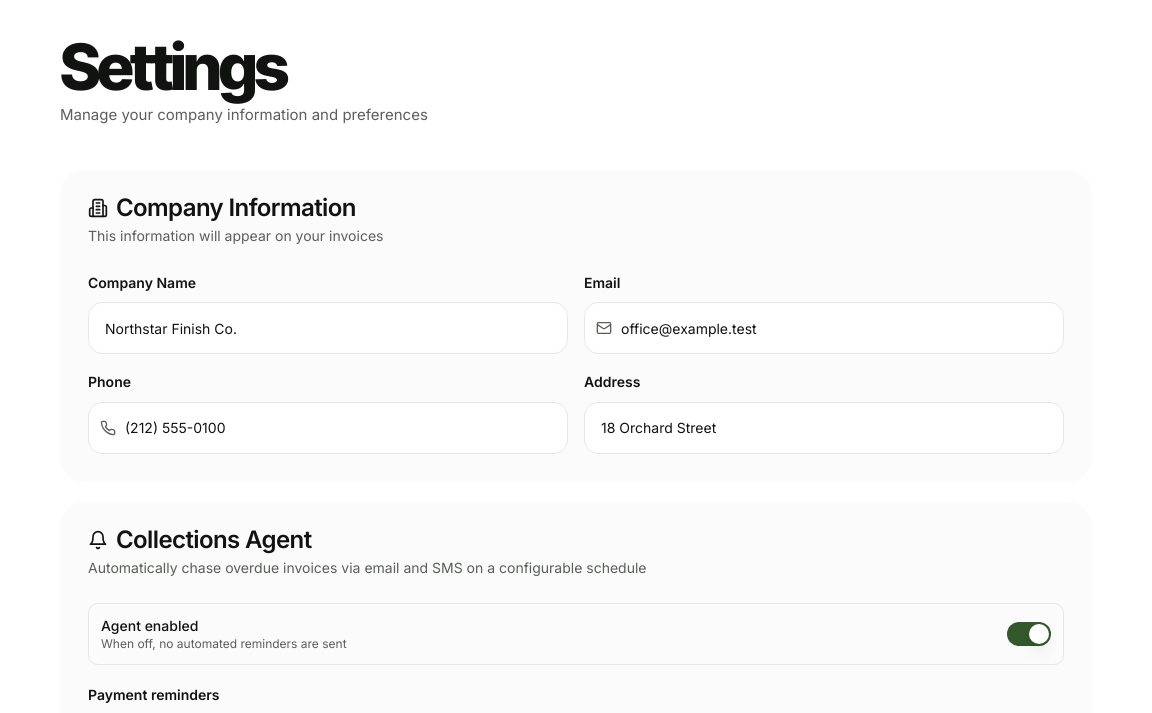
Test: Settings page › shows a save bar as soon as a field changes, and Discard restores the saved values
Replace the text in the field with test id "input-company-name" with "Northstar Painting". click: coordinates (328, 328)
box: [88, 302, 568, 354]
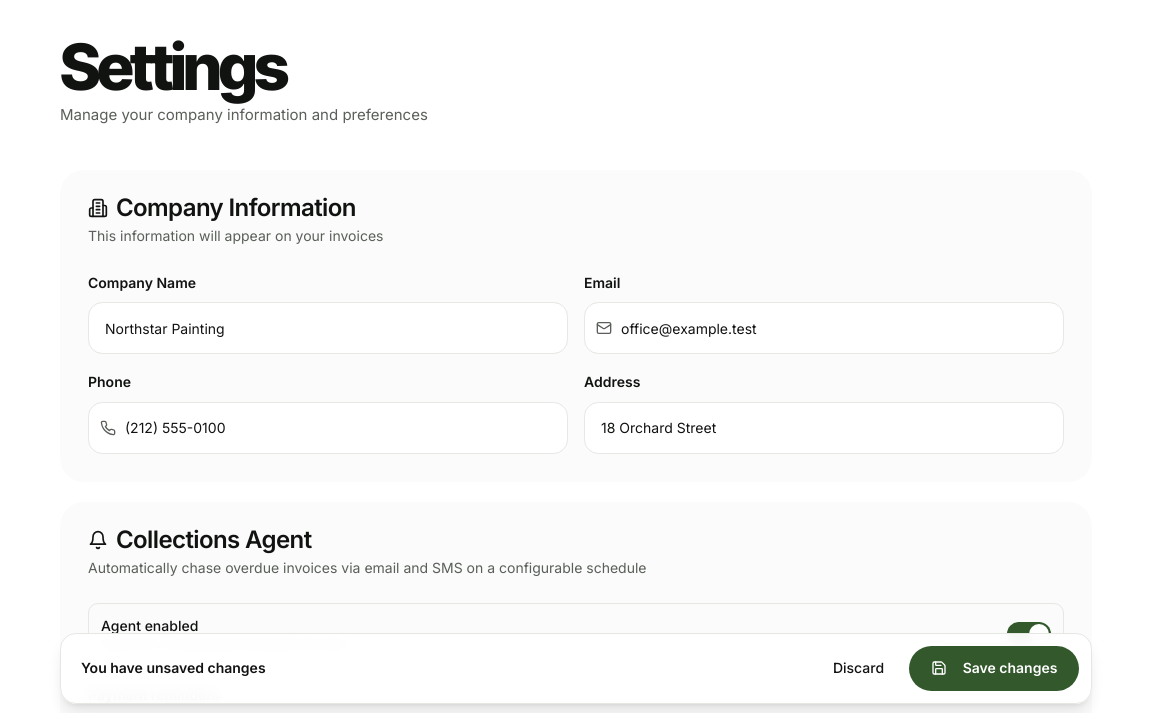
Result: the element with test id "bar-unsaved-changes" shows "You have unsaved changes" at [81, 660, 266, 677]
Click the button with test id "button-discard-settings". click: coordinates (858, 669)
box: [816, 646, 901, 691]
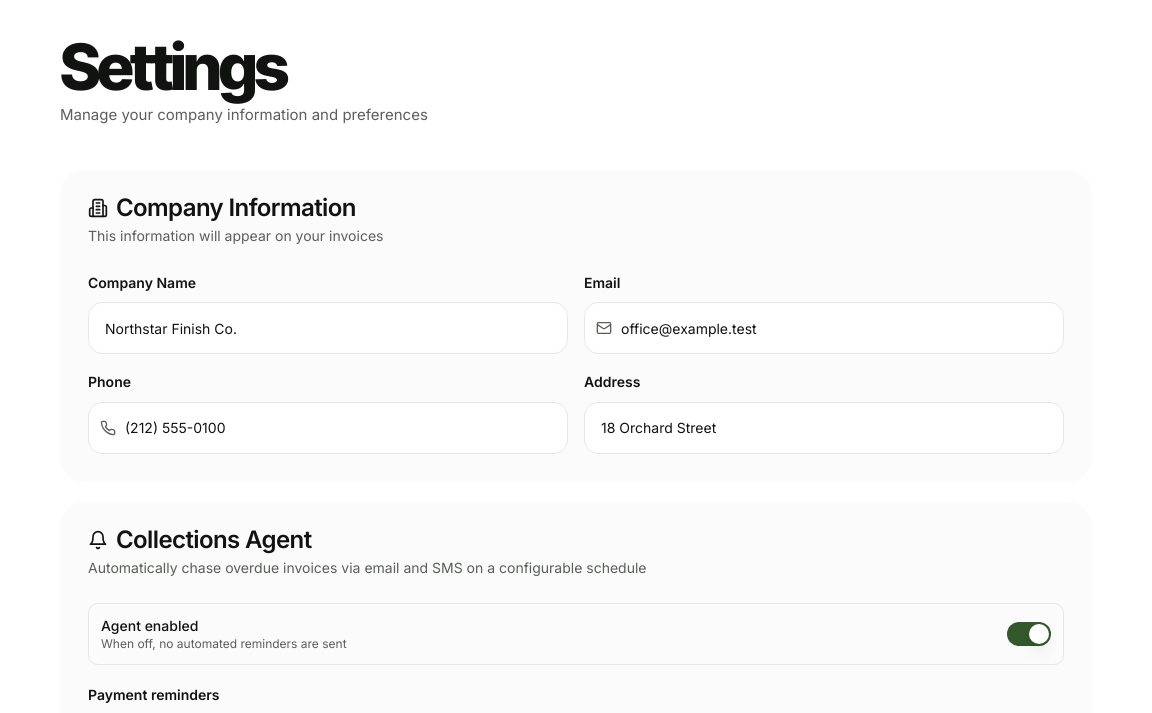
Result: the element with test id "bar-unsaved-changes" is gone
Result: the field with test id "input-company-name" holds "Northstar Finish Co." at [88, 302, 568, 354]
